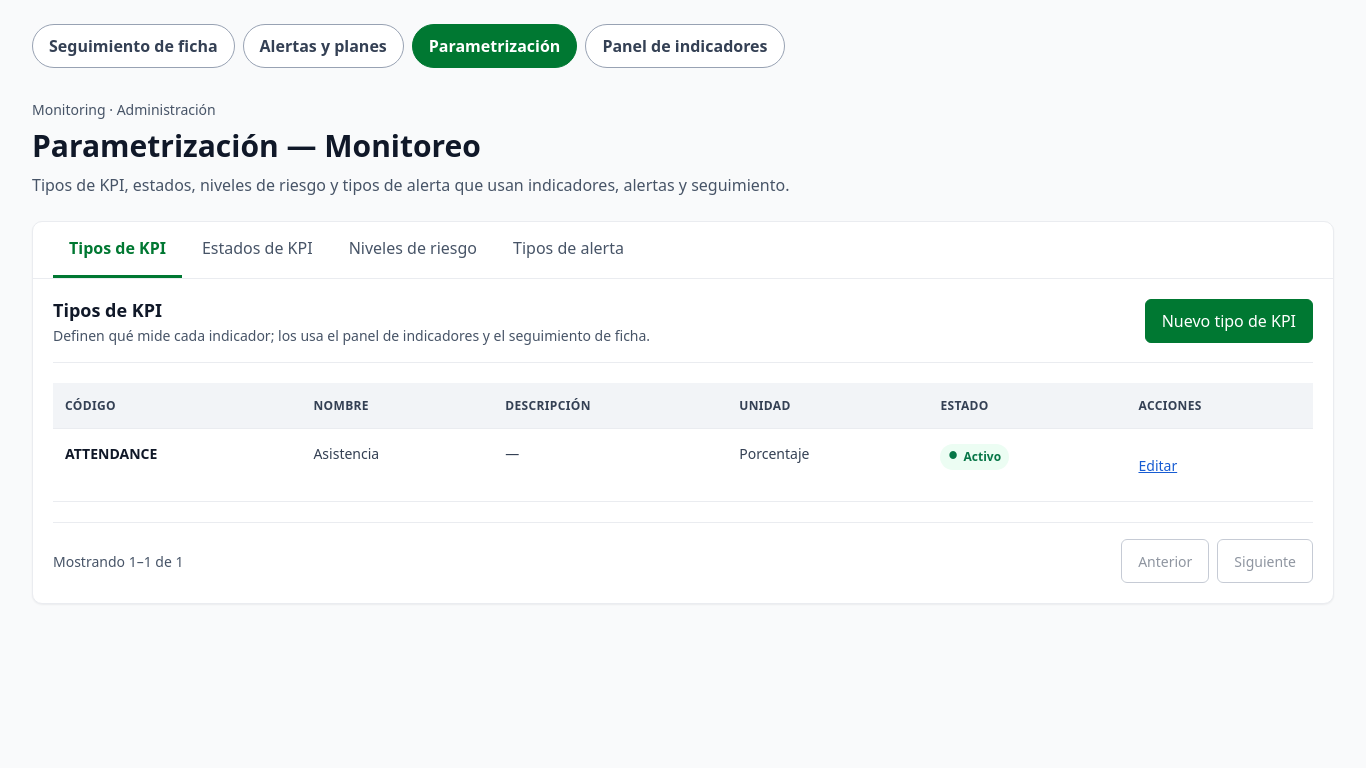
HU-005 monitoring catalogs › loads the four independent catalog resources and exposes read-only tabs without mutations
Expected: the text "ATTENDANCE" is shown, [65, 444, 157, 463]
What coordinates should you click on to do the following:
click the tab "Niveles de riesgo"
I would click on:
 (413, 250)
Its box is [333, 222, 493, 278].
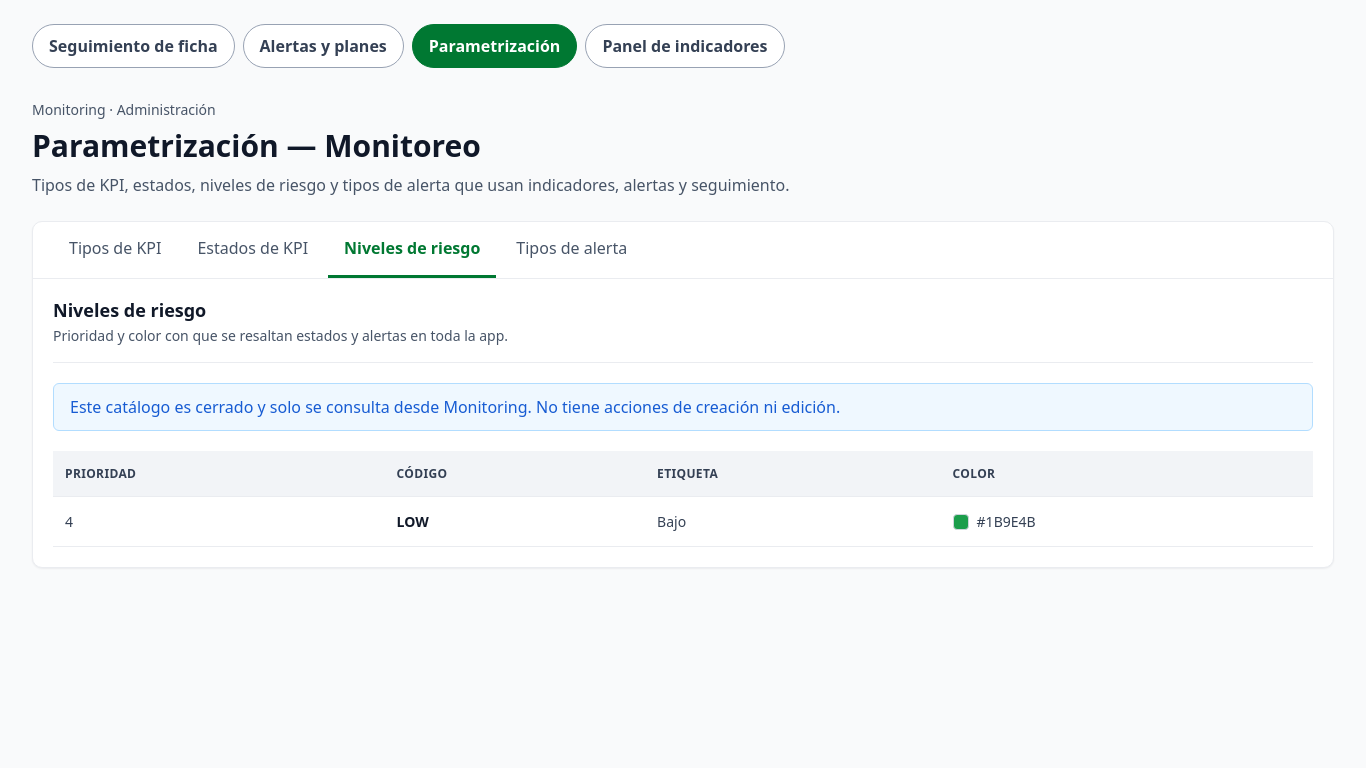
Result: the text "Bajo" is shown at [645, 497, 941, 546]
Result: the button "Nuevo" is gone
Result: the button "Editar" is gone
What coordinates should you click on to do the following:
click the tab "Estados de KPI"
I would click on:
 (253, 250)
Its box is [181, 222, 324, 278].
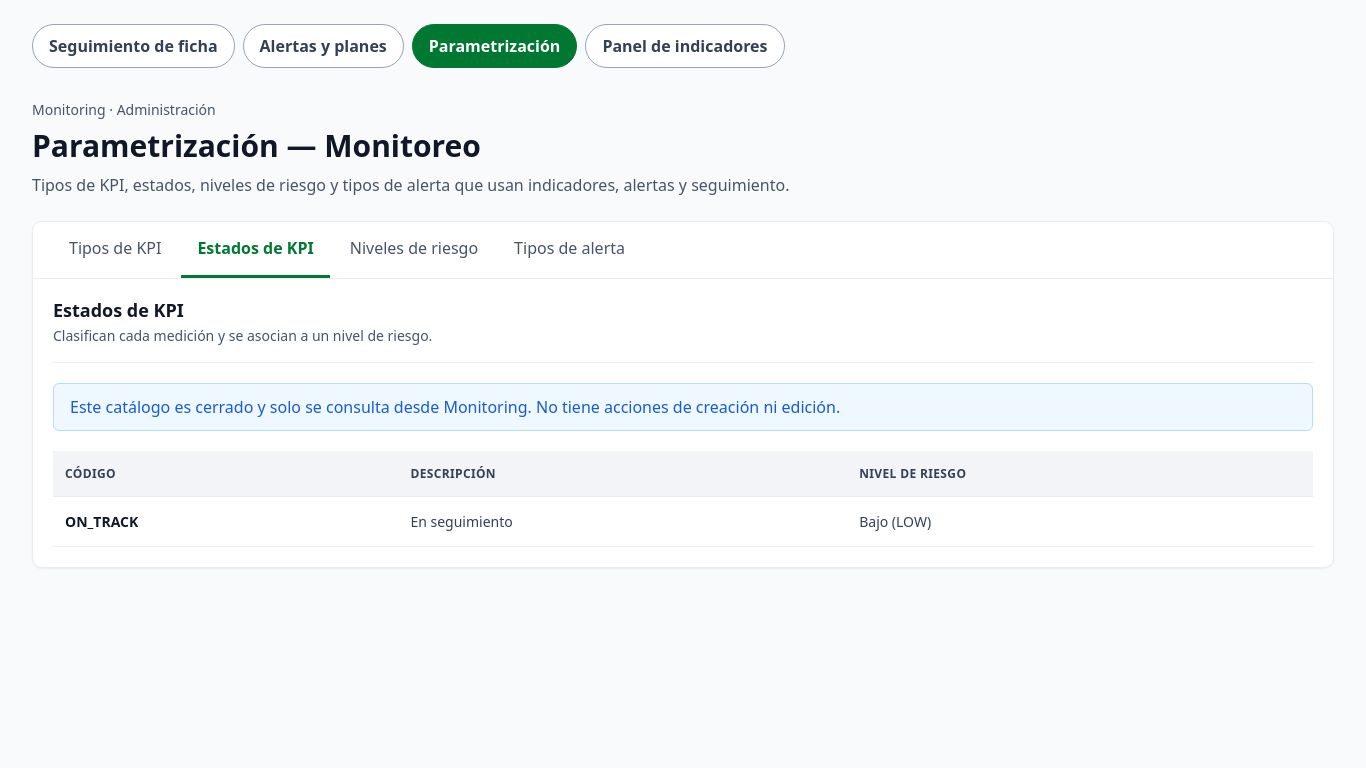
Expected: the button "Nuevo" is not shown
Result: the text "ON_TRACK" is shown at [65, 512, 138, 531]
